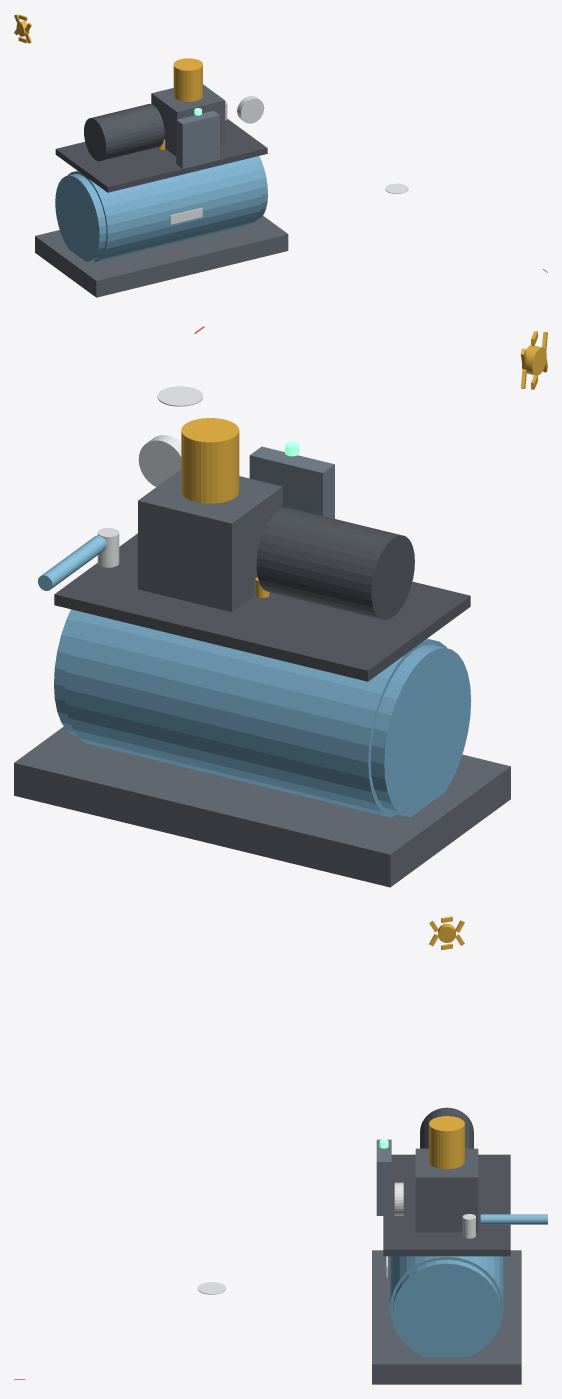
File: comp_01.glb
The picture shows the model from 3 angles, top to bottom: view 1: azimuth 30°, elevation 25°; view 2: azimuth 150°, elevation 25°; view 3: azimuth 270°, elevation 25°; orthographic projection. The views are drawn at different scales.
Parts seen in each view (by area): view 1: COMP_01_TANK, COMP_01_BASE, COMP_01_DECK, COMP_01_TANK_HEAD_LEFT, COMP_01_MOTOR, COMP_01_CONTROL_PANEL, COMP_01_AIR_END, COMP_01_AIR_FILTER, COMP_01_PRESSURE_GAUGE, COMP_01_TANK_HEAD_RIGHT; view 2: COMP_01_TANK, COMP_01_BASE, COMP_01_DECK, COMP_01_AIR_END, COMP_01_TANK_HEAD_LEFT, COMP_01_MOTOR, COMP_01_AIR_FILTER, COMP_01_CONTROL_PANEL, COMP_01_PRESSURE_GAUGE, COMP_01_TANK_HEAD_RIGHT, COMP_01_MAIN_PIPE, COMP_01_GAUGE_FACE (+1 smaller); view 3: COMP_01_BASE, COMP_01_TANK_HEAD_RIGHT, COMP_01_DECK, COMP_01_AIR_END, COMP_01_TANK, COMP_01_AIR_FILTER, COMP_01_CONTROL_PANEL, COMP_01_MOTOR, COMP_01_MAIN_PIPE.
Boxes of the visible parts, bbox=[...] form: COMP_01_TANK: bbox=[67, 157, 262, 261]; COMP_01_BASE: bbox=[35, 216, 288, 297]; COMP_01_DECK: bbox=[55, 119, 267, 192]; COMP_01_TANK_HEAD_LEFT: bbox=[55, 174, 106, 261]; COMP_01_MOTOR: bbox=[84, 103, 164, 161]; COMP_01_CONTROL_PANEL: bbox=[176, 110, 219, 168]; COMP_01_AIR_END: bbox=[151, 84, 225, 156]; COMP_01_AIR_FILTER: bbox=[173, 58, 202, 101]; COMP_01_PRESSURE_GAUGE: bbox=[237, 96, 264, 123]; COMP_01_TANK_HEAD_RIGHT: bbox=[254, 156, 267, 220]; COMP_01_TANK: bbox=[65, 612, 446, 817]; COMP_01_BASE: bbox=[14, 726, 510, 887]; COMP_01_DECK: bbox=[54, 533, 470, 681]; COMP_01_AIR_END: bbox=[138, 469, 282, 612]; COMP_01_TANK_HEAD_LEFT: bbox=[370, 644, 471, 817]; COMP_01_MOTOR: bbox=[256, 507, 414, 619]; COMP_01_AIR_FILTER: bbox=[181, 418, 239, 503]; COMP_01_CONTROL_PANEL: bbox=[249, 446, 334, 518]; COMP_01_PRESSURE_GAUGE: bbox=[138, 435, 181, 486]; COMP_01_TANK_HEAD_RIGHT: bbox=[54, 609, 81, 735]; COMP_01_MAIN_PIPE: bbox=[38, 535, 106, 590]; COMP_01_GAUGE_FACE: bbox=[157, 386, 202, 406]; COMP_01_BASE: bbox=[372, 1250, 521, 1384]; COMP_01_TANK_HEAD_RIGHT: bbox=[393, 1259, 500, 1357]; COMP_01_DECK: bbox=[383, 1154, 510, 1256]; COMP_01_AIR_END: bbox=[415, 1148, 478, 1232]; COMP_01_TANK: bbox=[390, 1256, 503, 1344]; COMP_01_AIR_FILTER: bbox=[429, 1116, 464, 1169]; COMP_01_CONTROL_PANEL: bbox=[376, 1139, 391, 1215]; COMP_01_MOTOR: bbox=[420, 1107, 473, 1148]; COMP_01_MAIN_PIPE: bbox=[480, 1214, 547, 1224].
Bounding box in the file's own units: 3.28 × 2.42 × 3.57.
